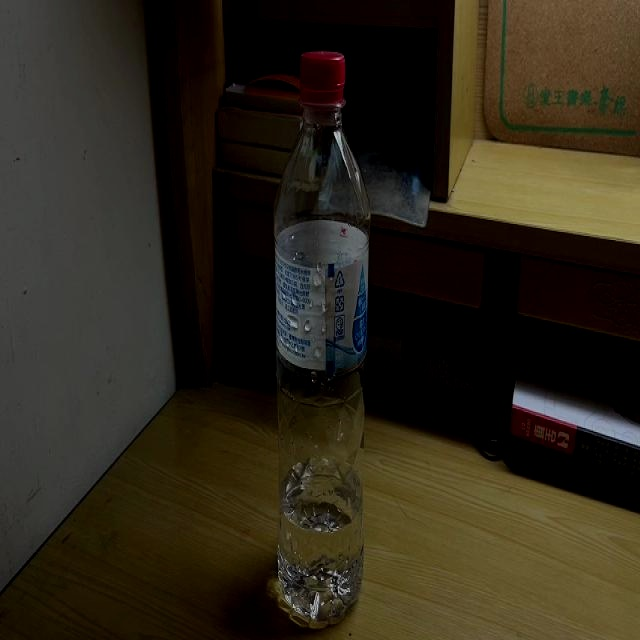Water: (276, 46, 369, 629)
